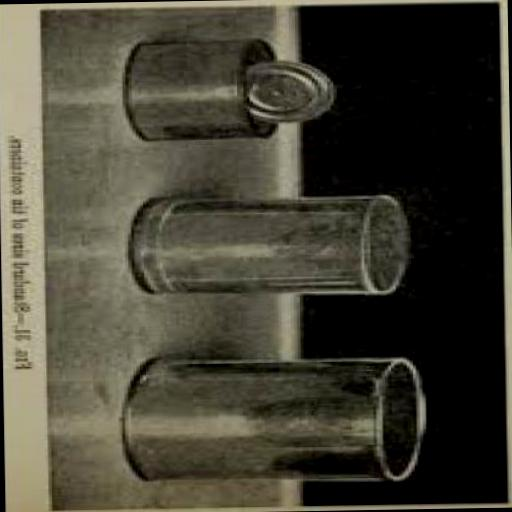metal: (122, 356, 432, 489), (126, 196, 414, 302), (126, 36, 342, 142)
